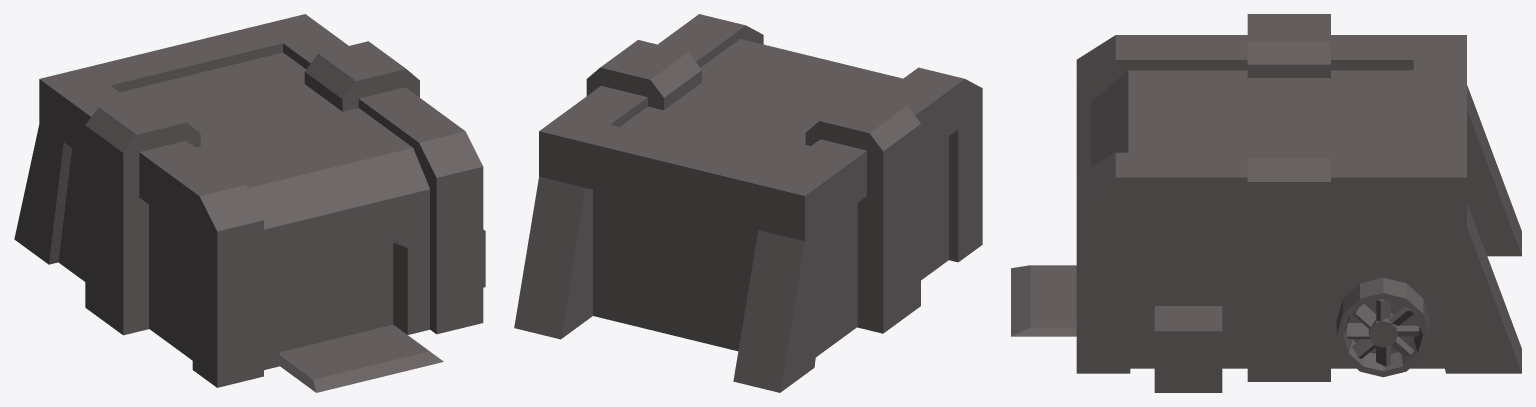
File: Garage.glb
3 views of the same model, side by side, from view 1: azimuth 30°, elevation 25°; view 2: azimuth 150°, elevation 25°; view 3: azimuth 270°, elevation 25° (orthographic). The views are drawn at different scales.
Visible parts, largest first — view 1: Cube, Cube.002, Cube.013, Cube.001; view 2: Cube.002, Cube, Cube.013, Cube.001; view 3: Cube.002, Cube, Cube.001, Cube.003, Cube.012, Cube.013.
Part boxes in pixels (x1,y1,x2,y2): Cube: [58, 52, 443, 392]; Cube.002: [14, 14, 483, 387]; Cube.013: [85, 95, 200, 335]; Cube.001: [304, 41, 419, 111]; Cube.002: [514, 14, 982, 392]; Cube: [593, 39, 948, 357]; Cube.013: [805, 93, 920, 333]; Cube.001: [586, 40, 701, 110]; Cube.002: [1076, 35, 1521, 373]; Cube: [1011, 70, 1444, 368]; Cube.001: [1247, 131, 1330, 381]; Cube.003: [1336, 277, 1429, 377]; Cube.012: [1154, 306, 1222, 392]; Cube.013: [1247, 14, 1330, 77].
Bounding box in the file's own units: 2.59 × 1.53 × 3.26.
Materials: 1 (1 with a texture image).
